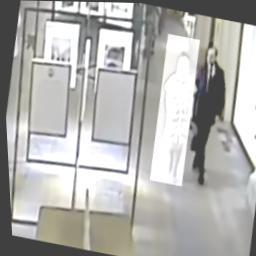nonspitting: (174, 39, 245, 190), (141, 33, 206, 187)
